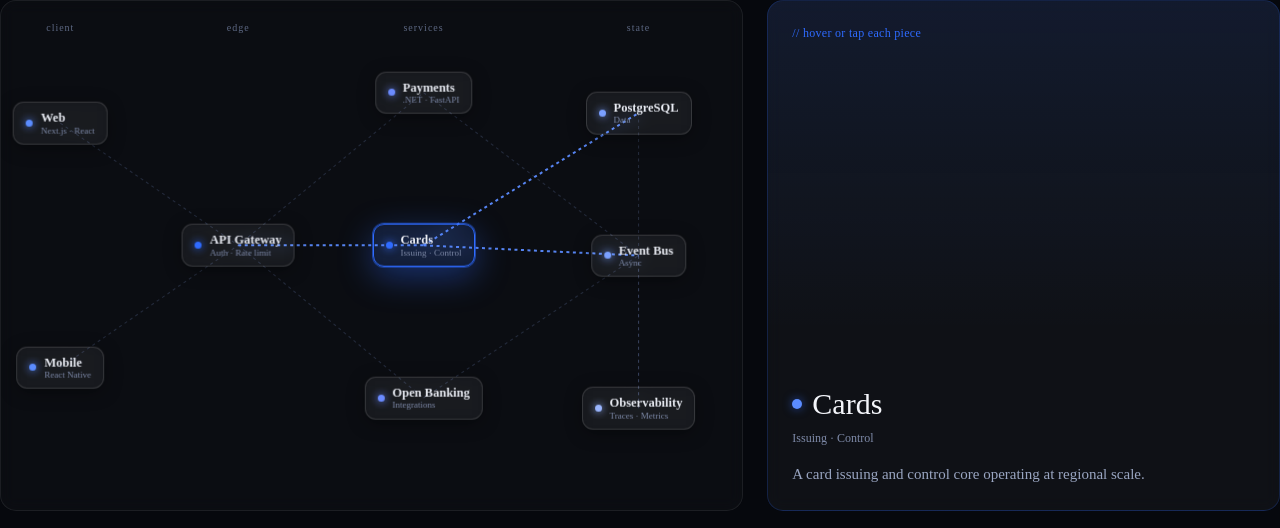
Test: ArchitectureDiagram › clicking a node button updates the detail panel and the connecting lines highlight state
Click the button with test id "arch-node-pagos" at (424, 93), box [375,71,472,114]
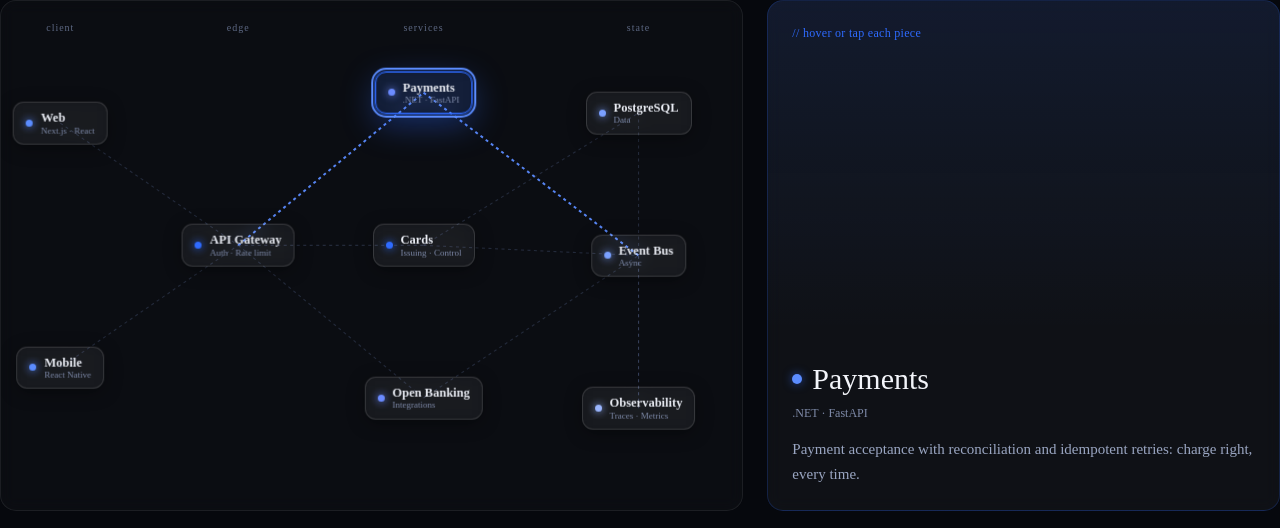
Check: the text "Payment acceptance with reconciliation and idempotent retries: charge right, every time." is shown, box [792,442,1252,482]
